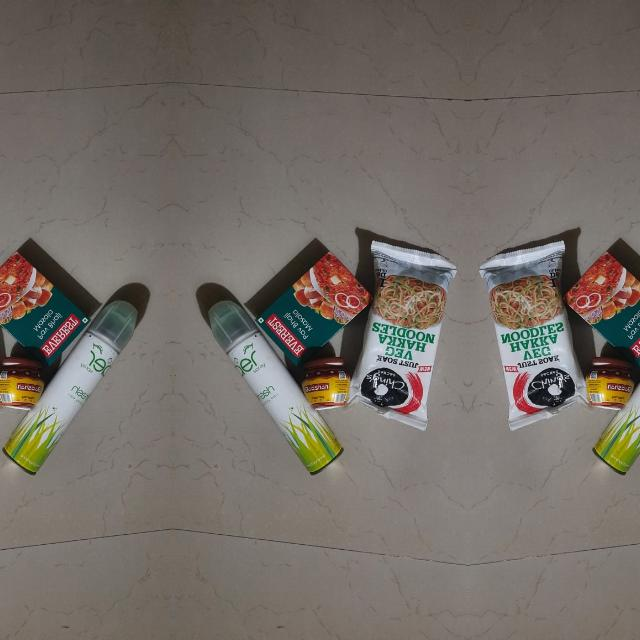Badshah Afgani Hing: (570, 344, 640, 416), (296, 344, 364, 416), (0, 344, 48, 416)
Chings Secret Veg Hakka Noodles 140 g Pouch: (354, 227, 458, 439), (477, 227, 581, 439)
Everest Pav Bhaji Masala 100 g: (265, 232, 367, 356), (0, 231, 79, 356), (568, 231, 640, 356)
Godrej Aer Lush Green Fresh Home Fragrance Spray 220 ml: (198, 290, 332, 480), (12, 290, 146, 480), (602, 290, 640, 479)
